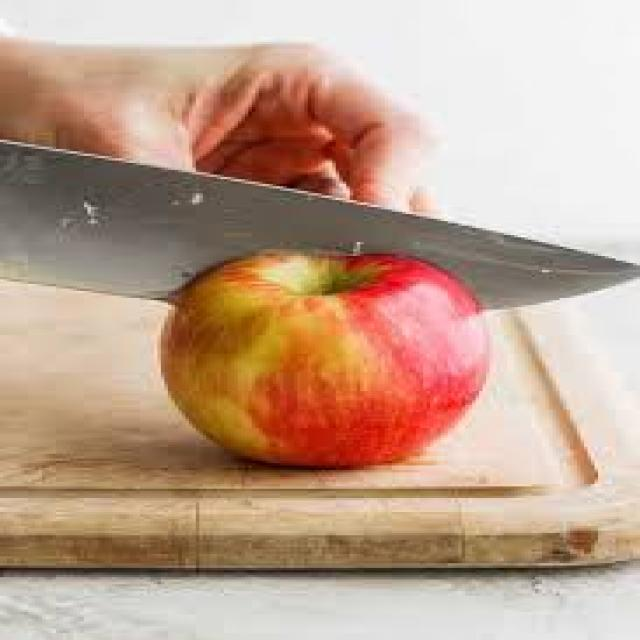Apple: (152, 256, 500, 463)
